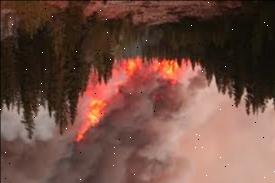fire: (73, 51, 187, 147)
